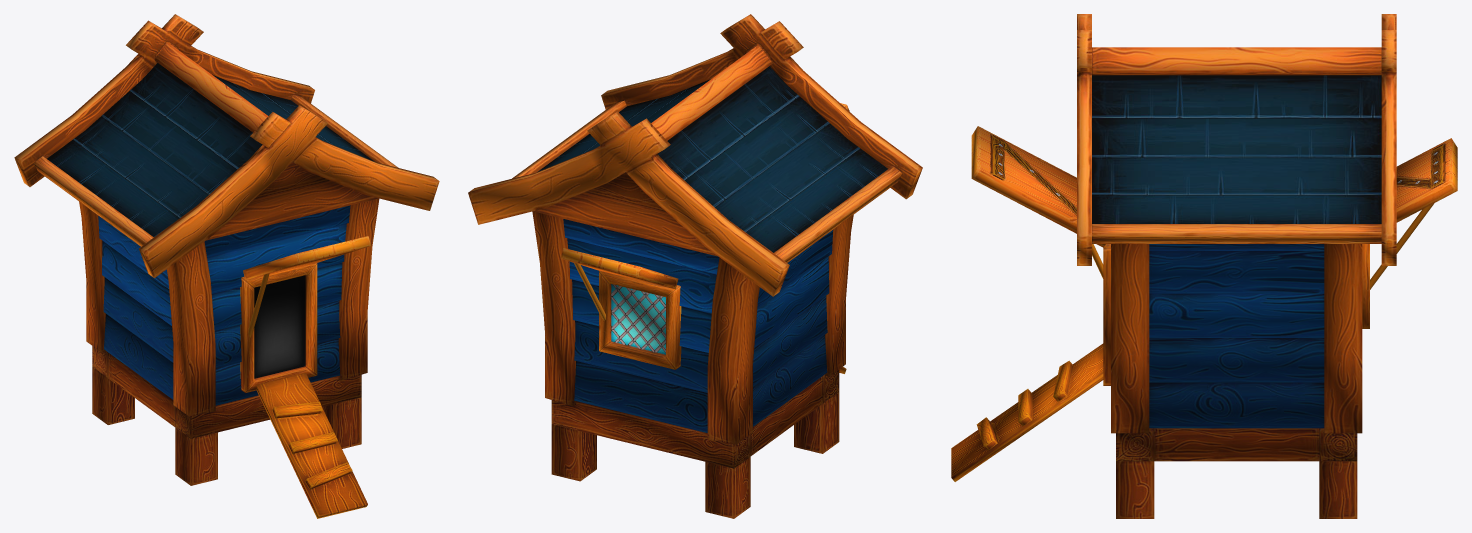
Rendered from Chicken_House.fbx.
3 views of the same model, side by side, from view 1: azimuth 30°, elevation 25°; view 2: azimuth 150°, elevation 25°; view 3: azimuth 270°, elevation 25° (orthographic). The views are drawn at different scales.
Parts seen in each view (by area): view 1: Roof.001; view 2: Roof.001; view 3: Roof.001.
Boxes of the visible parts, x1,y1,x2,y2 form: Roof.001: [14, 14, 439, 518]; Roof.001: [468, 14, 922, 518]; Roof.001: [951, 14, 1457, 518].
Size of the model in its own units: 164 by 194 by 200.
1 material, 1 textured.
